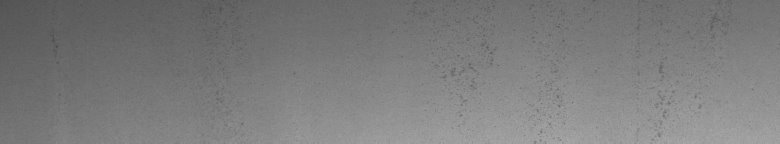ib: (441, 42, 551, 135)
